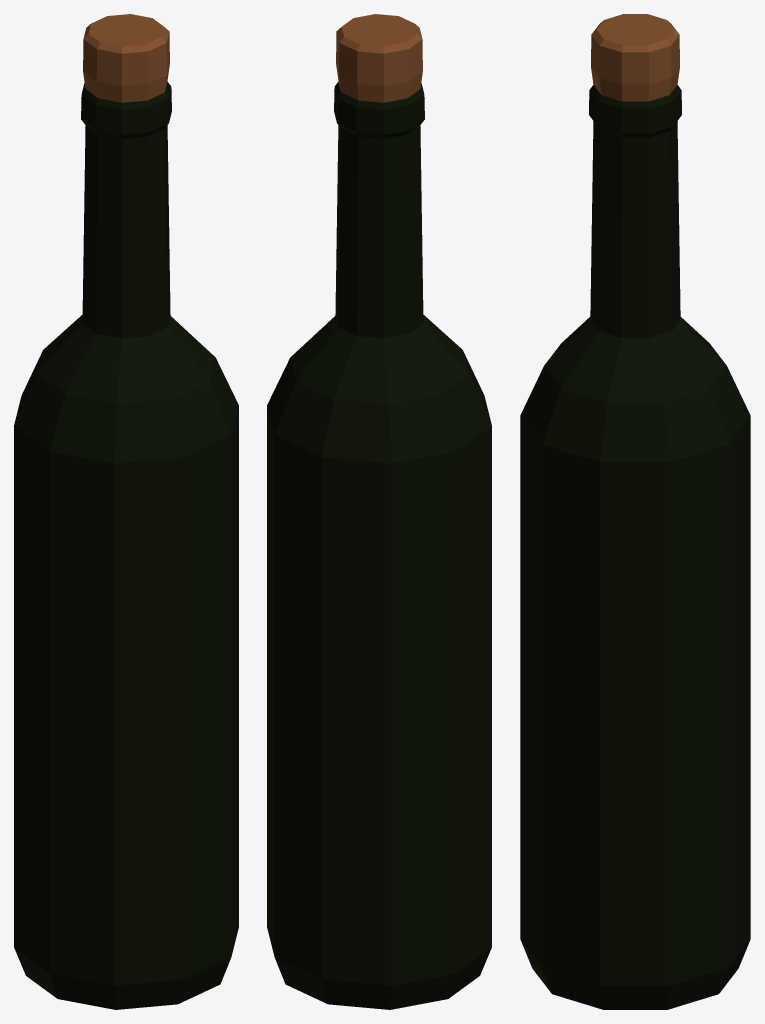
The model's file is ww_bottle_a.glb.
The picture shows the model from 3 angles, left to right: view 1: azimuth 30°, elevation 25°; view 2: azimuth 150°, elevation 25°; view 3: azimuth 270°, elevation 25°; orthographic projection.
Parts seen in each view (by area): view 1: Bottle_A; view 2: Bottle_A; view 3: Bottle_A.
Part boxes in pixels (x1,y1,x2,y2): Bottle_A: (14,14,238,1009); Bottle_A: (267,14,491,1009); Bottle_A: (520,14,750,1009).
Bounding box in the file's own units: 0.0771 × 0.3644 × 0.081.
